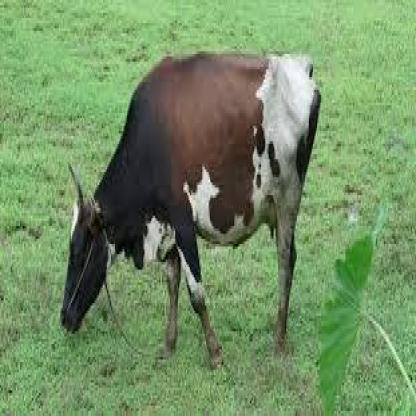cow: (59, 55, 322, 369)
